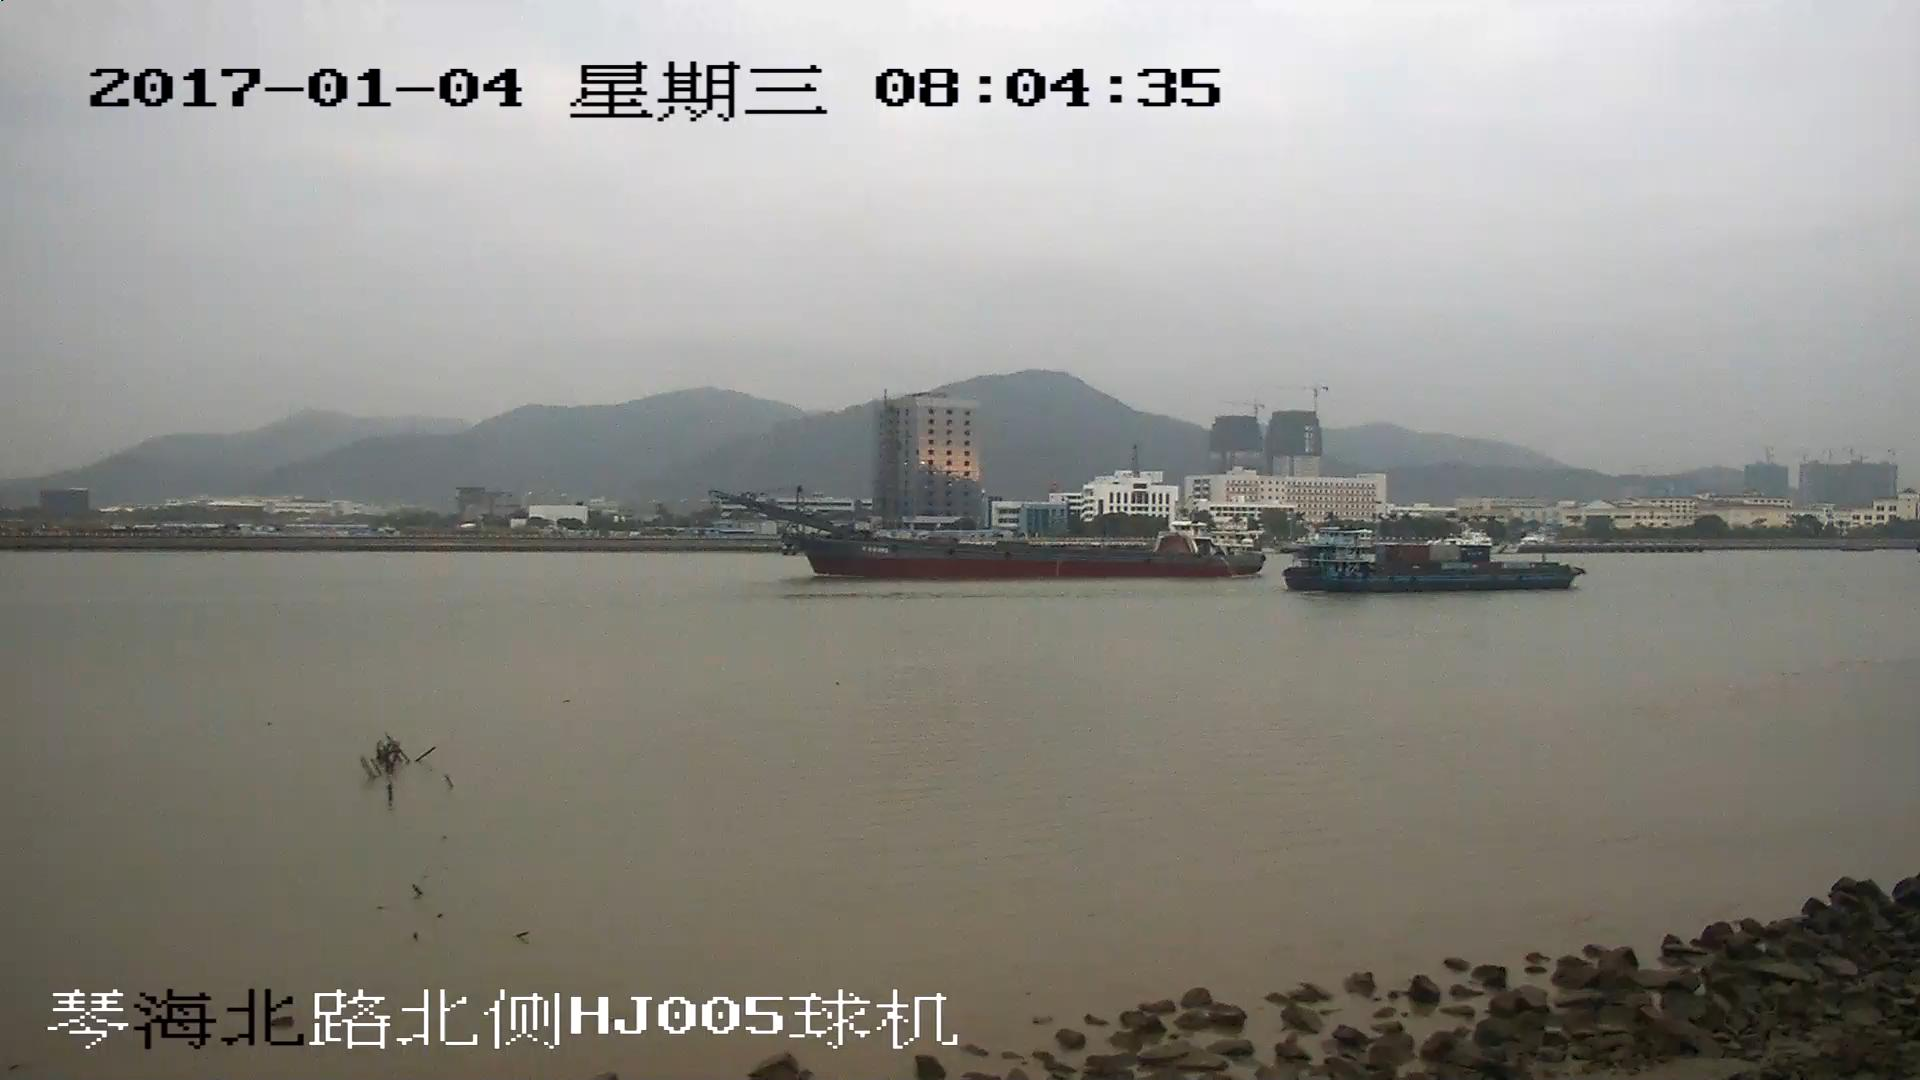bulk cargo carrier: (714, 489, 1265, 577)
container ship: (1284, 526, 1580, 594)
